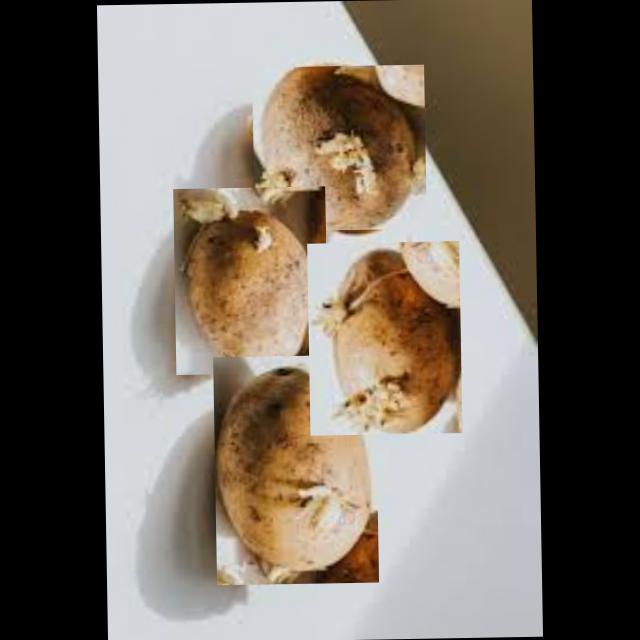Sprouted potato: (212, 353, 378, 584), (307, 240, 462, 434), (173, 184, 328, 373), (252, 63, 426, 230)
